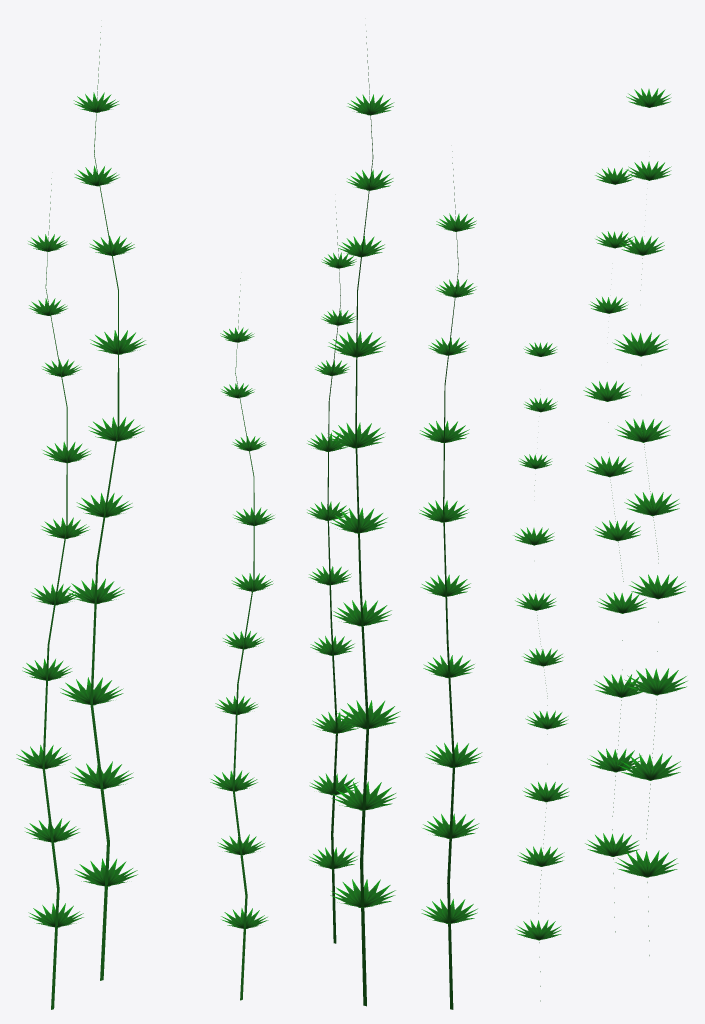
File: SeaWeed_01_Group.FBX
3 renders of one model, left to right at view 1: azimuth 30°, elevation 25°; view 2: azimuth 150°, elevation 25°; view 3: azimuth 270°, elevation 25°, orthographic. The views are drawn at different scales.
Visible parts, largest first — view 1: SeaWeed_01_Group; view 2: SeaWeed_01_Group; view 3: SeaWeed_01_Group.
Boxes of the visible parts, x1,y1,x2,y2 form: SeaWeed_01_Group: (16, 26, 274, 1009); SeaWeed_01_Group: (307, 31, 482, 1009); SeaWeed_01_Group: (513, 88, 687, 1001).
Bounding box in the file's own units: 97.7 × 414 × 70.07.
